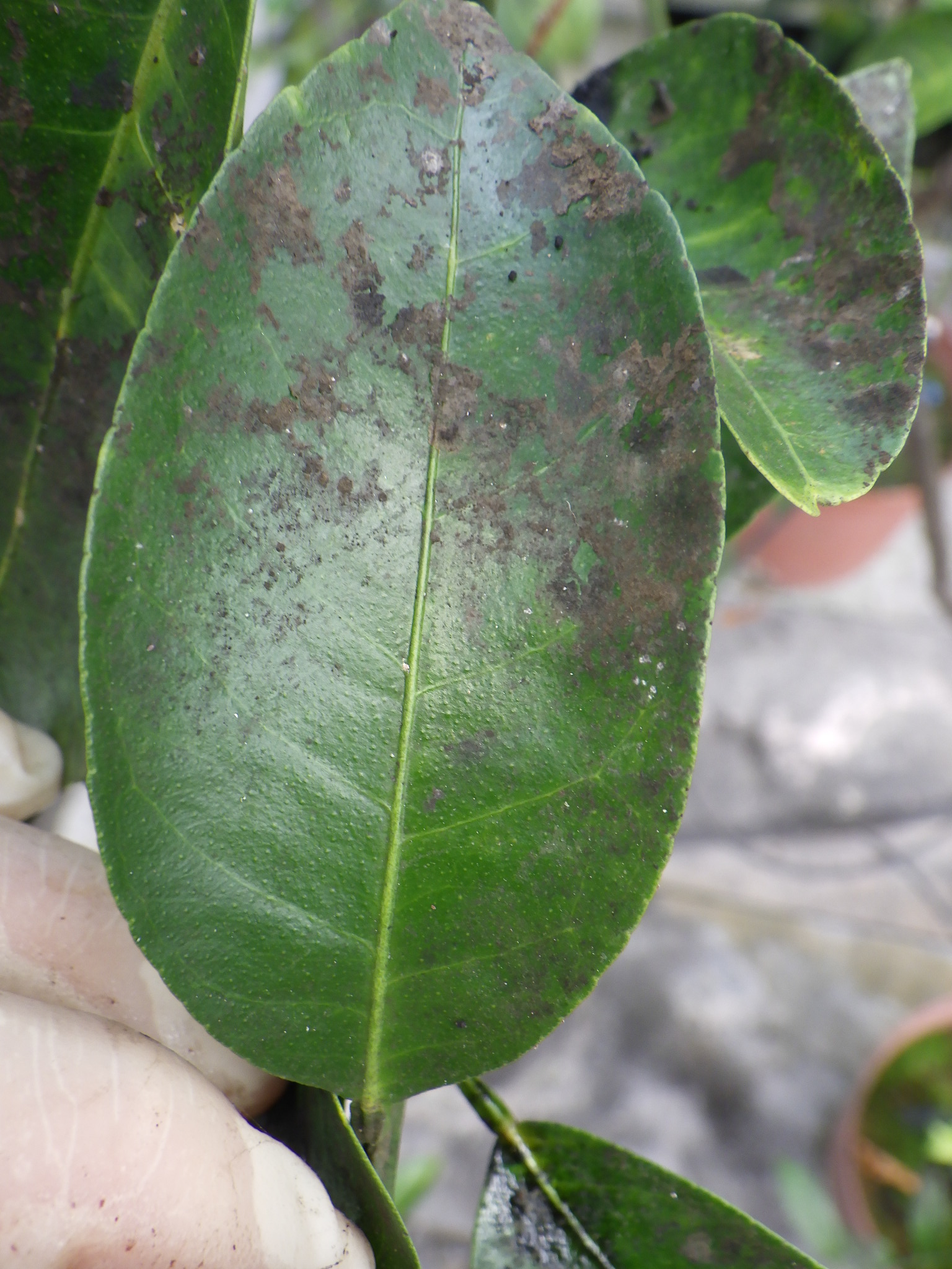Sooty_Mold: (84, 0, 722, 1111)
